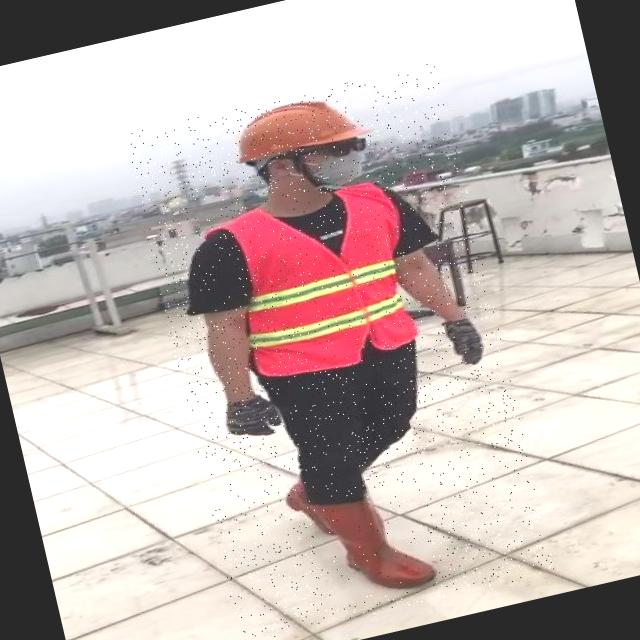boots: (309, 478, 438, 606)
helmet: (221, 82, 371, 172)
vest: (216, 178, 428, 386)
